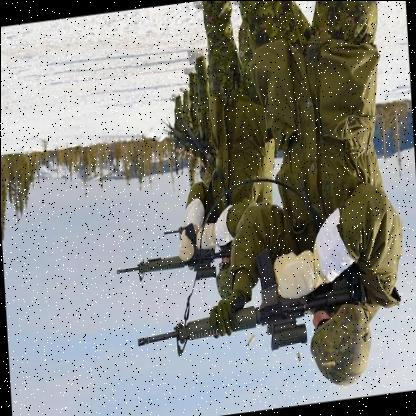rifle: (134, 258, 364, 366), (110, 227, 230, 294)
